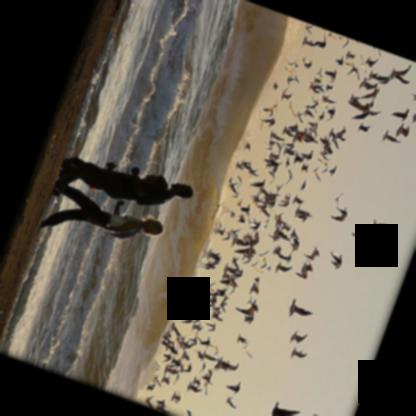backpack: (107, 219, 141, 239)
